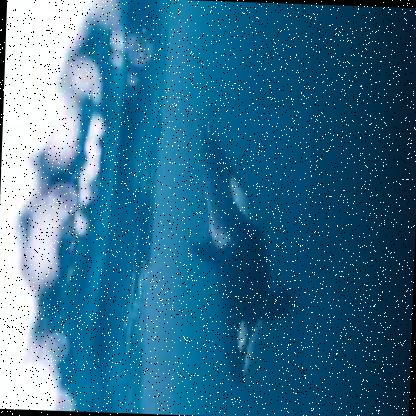killer_whale: (171, 104, 314, 415)
